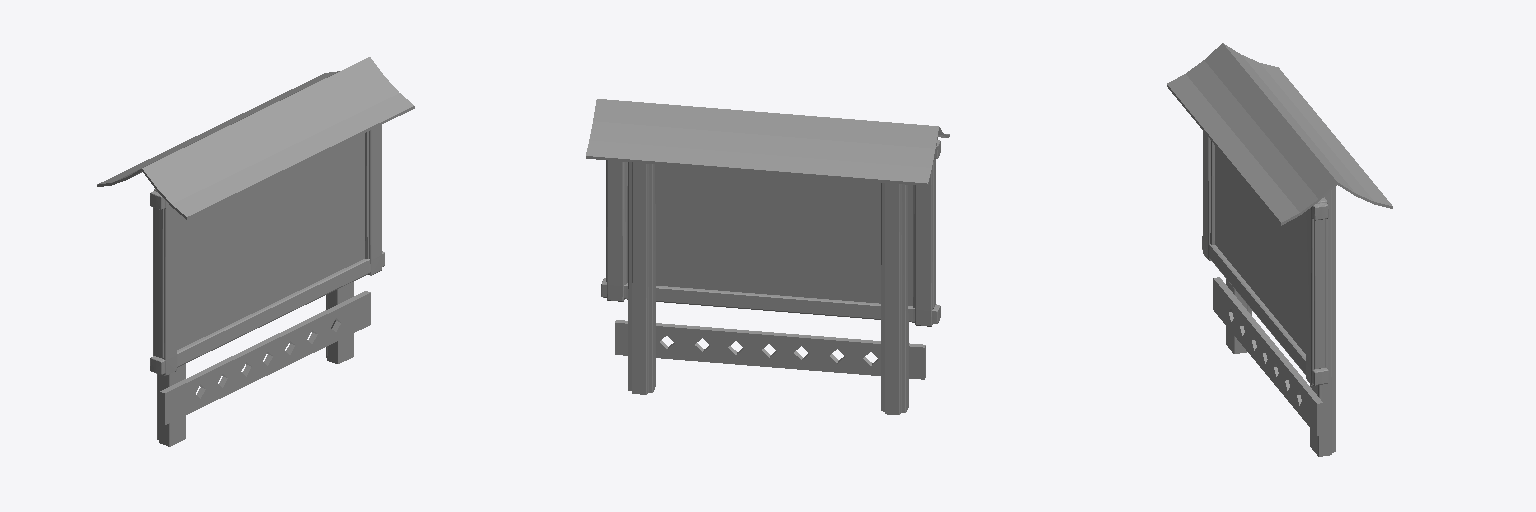
The model's file is board.obj.
3 views of the same model, side by side, from view 1: azimuth 30°, elevation 25°; view 2: azimuth 150°, elevation 25°; view 3: azimuth 270°, elevation 25° (orthographic).
Parts seen in each view (by area): view 1: notice_board; view 2: notice_board; view 3: notice_board.
Part boxes in pixels (left/top/right/bottom): notice_board: left=97, top=57, right=414, bottom=446; notice_board: left=586, top=99, right=949, bottom=414; notice_board: left=1167, top=43, right=1392, bottom=456.
Size of the model in its own units: 4.05 by 3.49 by 2.49.